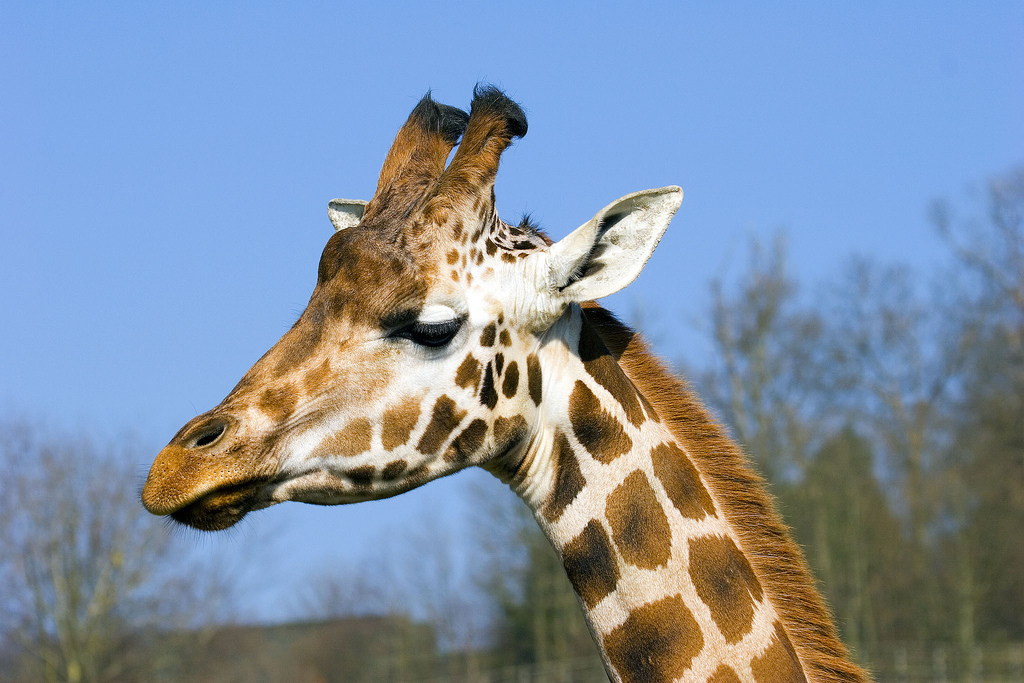giraffe: (141, 64, 814, 655)
